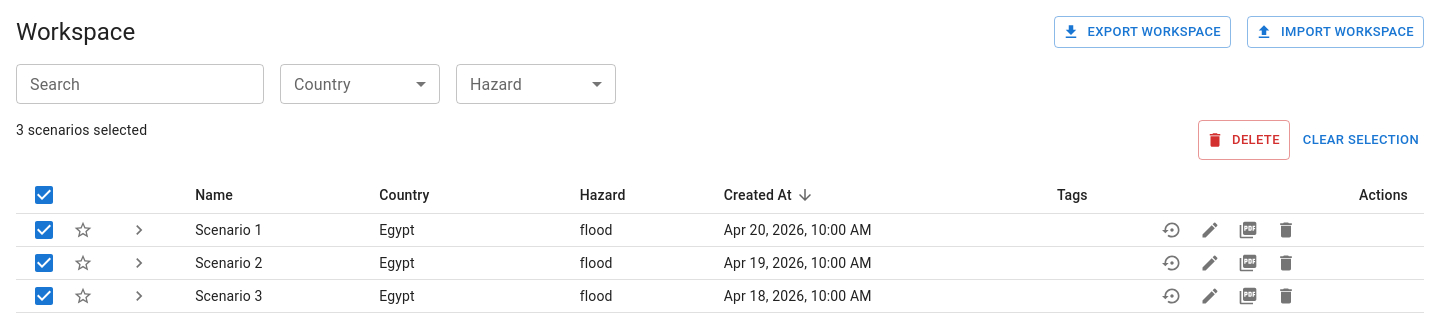
Workspace bulk delete › clear selection button empties selectedIds and hides the bar
Click the button with aria-label "bulk-clear-selection".
click(1361, 140)  # box [1298,120,1424,160]
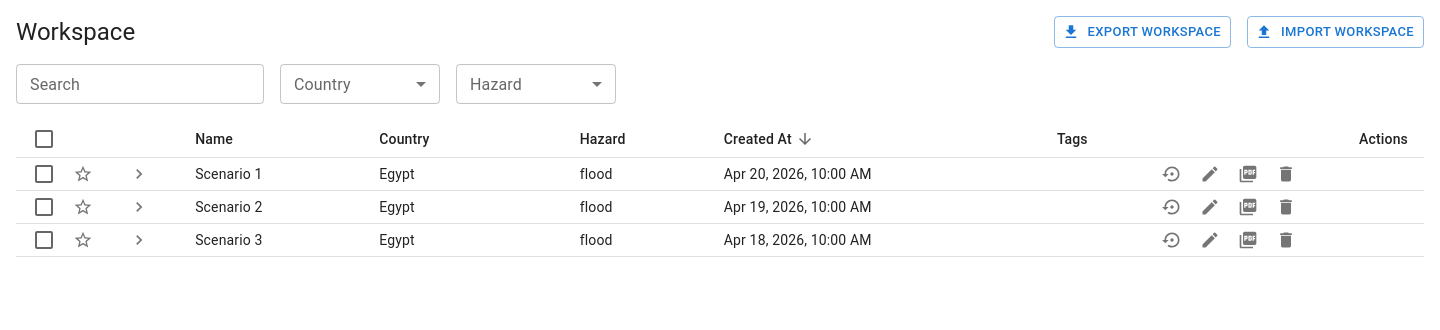
Result: the field labelled "bulk-action-bar" is gone
